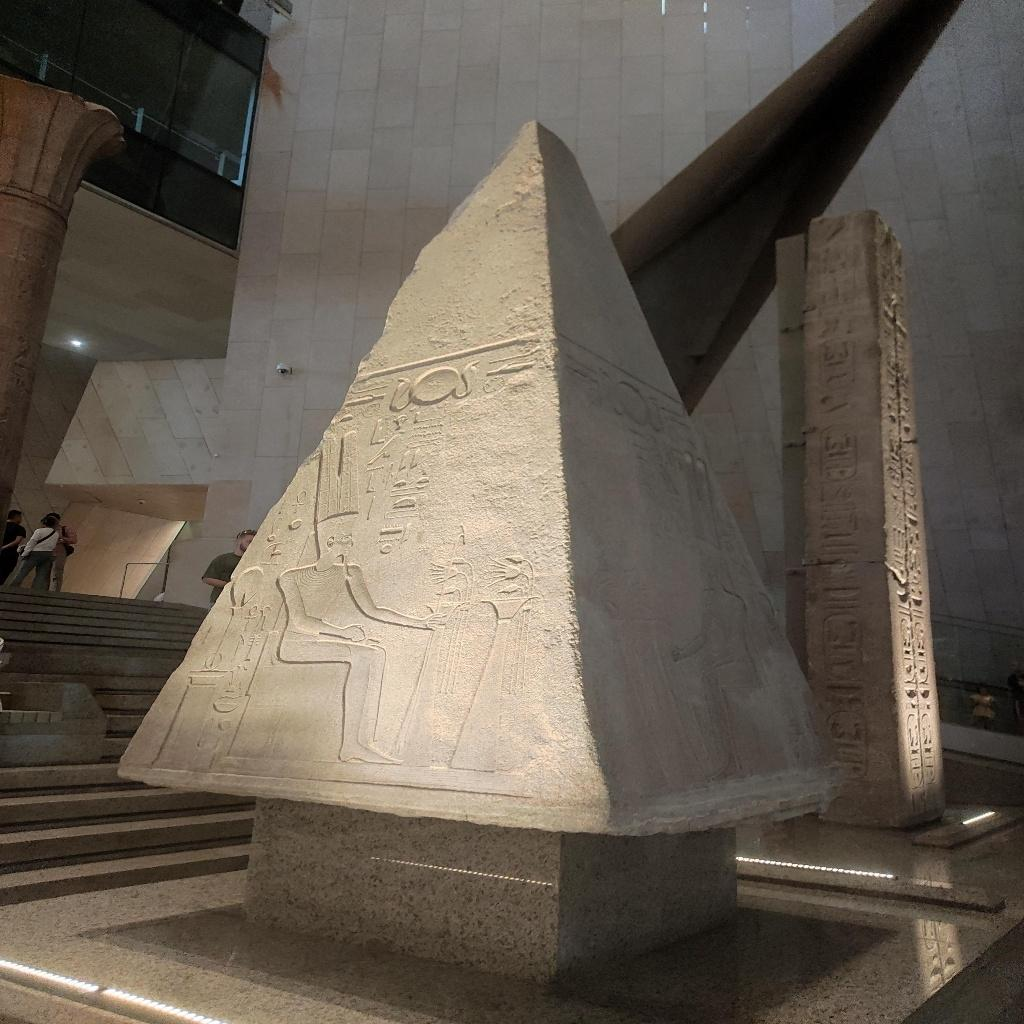Obelsik Tip of Hatshepsut: (114, 116, 854, 840)
